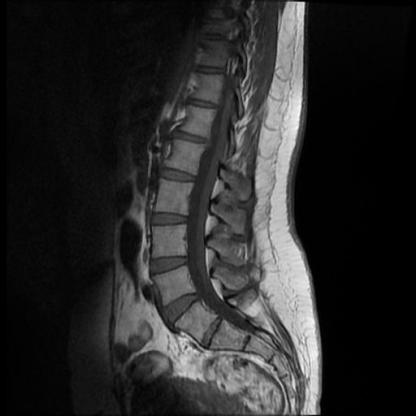Annular Disc Relaxationrotation: (159, 292, 206, 319), (196, 318, 230, 338)
Degenerative Disc Diseaserotation: (161, 295, 203, 319), (204, 312, 222, 349), (160, 168, 200, 184)
Disc Bulgerotation: (159, 167, 199, 185)
